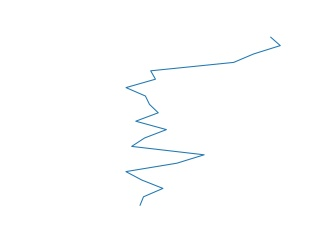crevasseRiverChannelBar: (121, 34, 284, 210)
